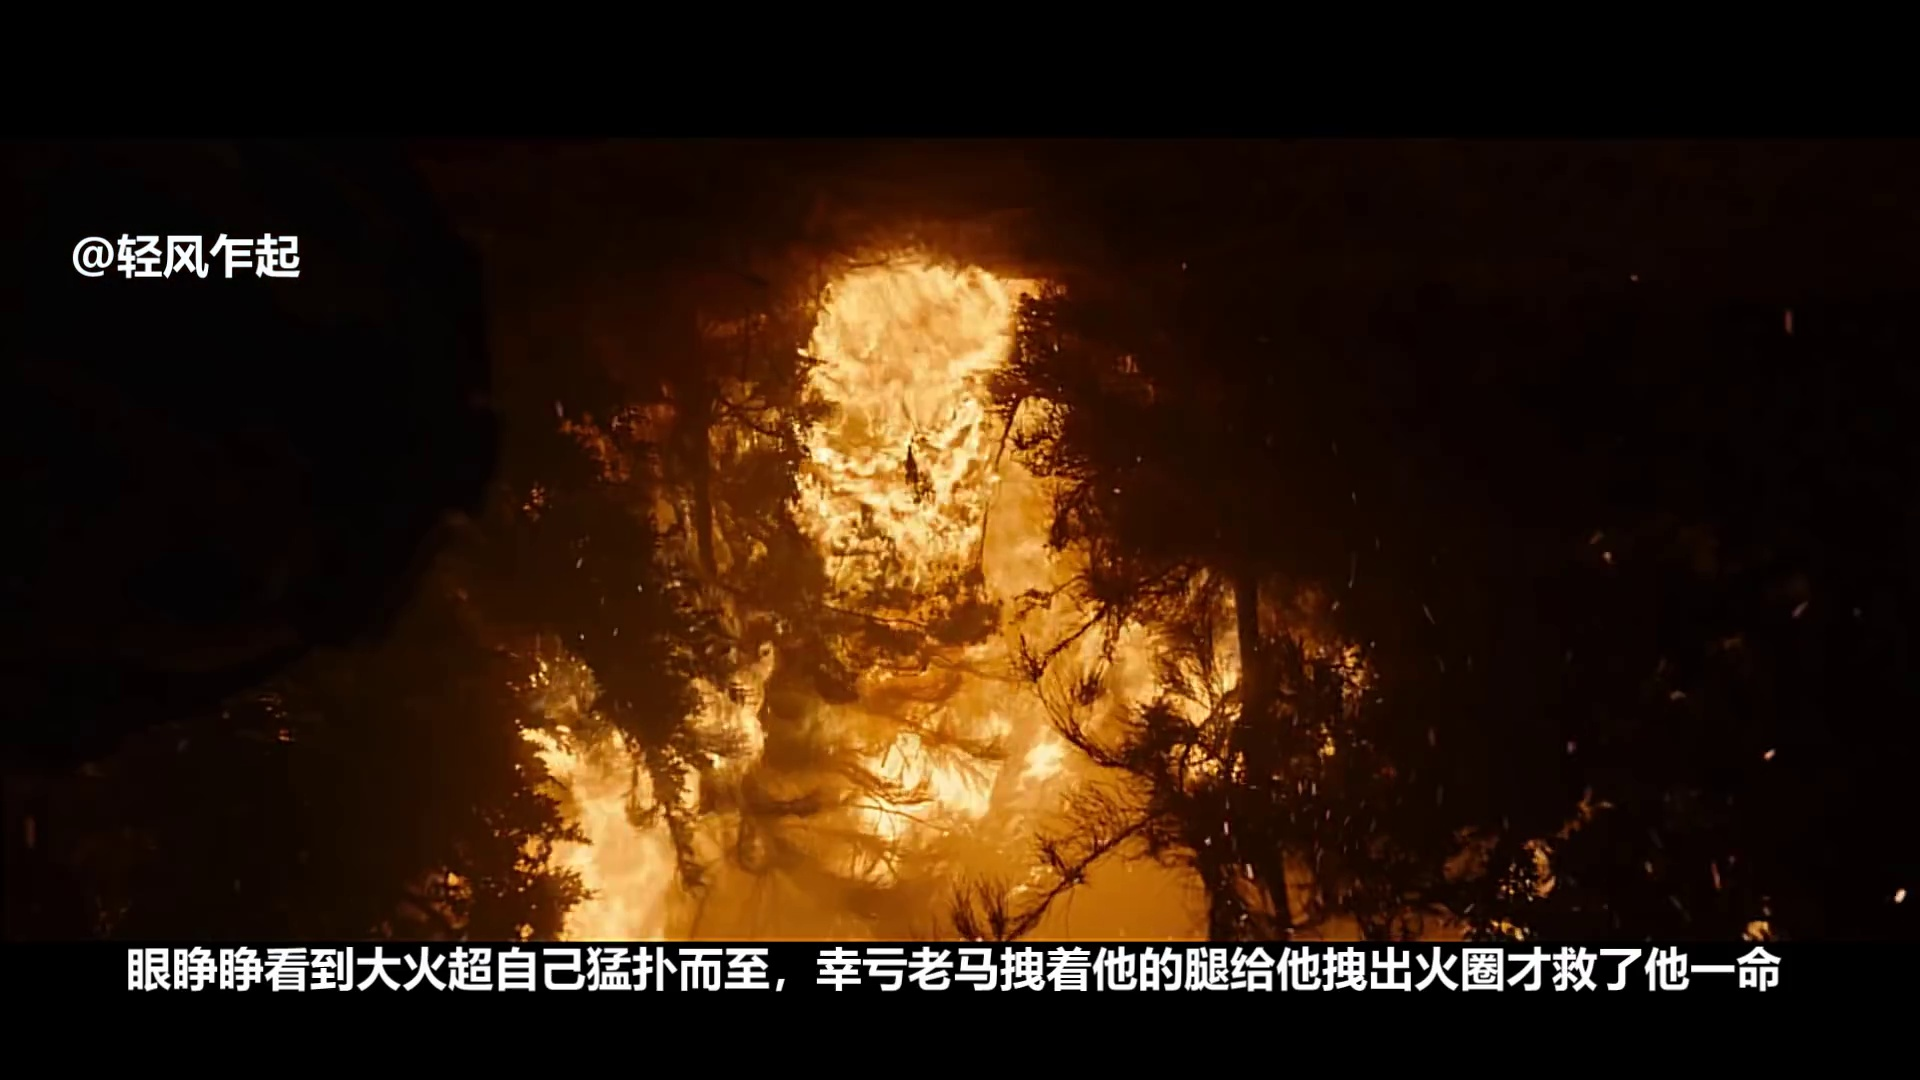fire: (795, 258, 1029, 588), (531, 698, 757, 936), (1095, 607, 1236, 716), (856, 733, 997, 824), (1021, 728, 1062, 781)
